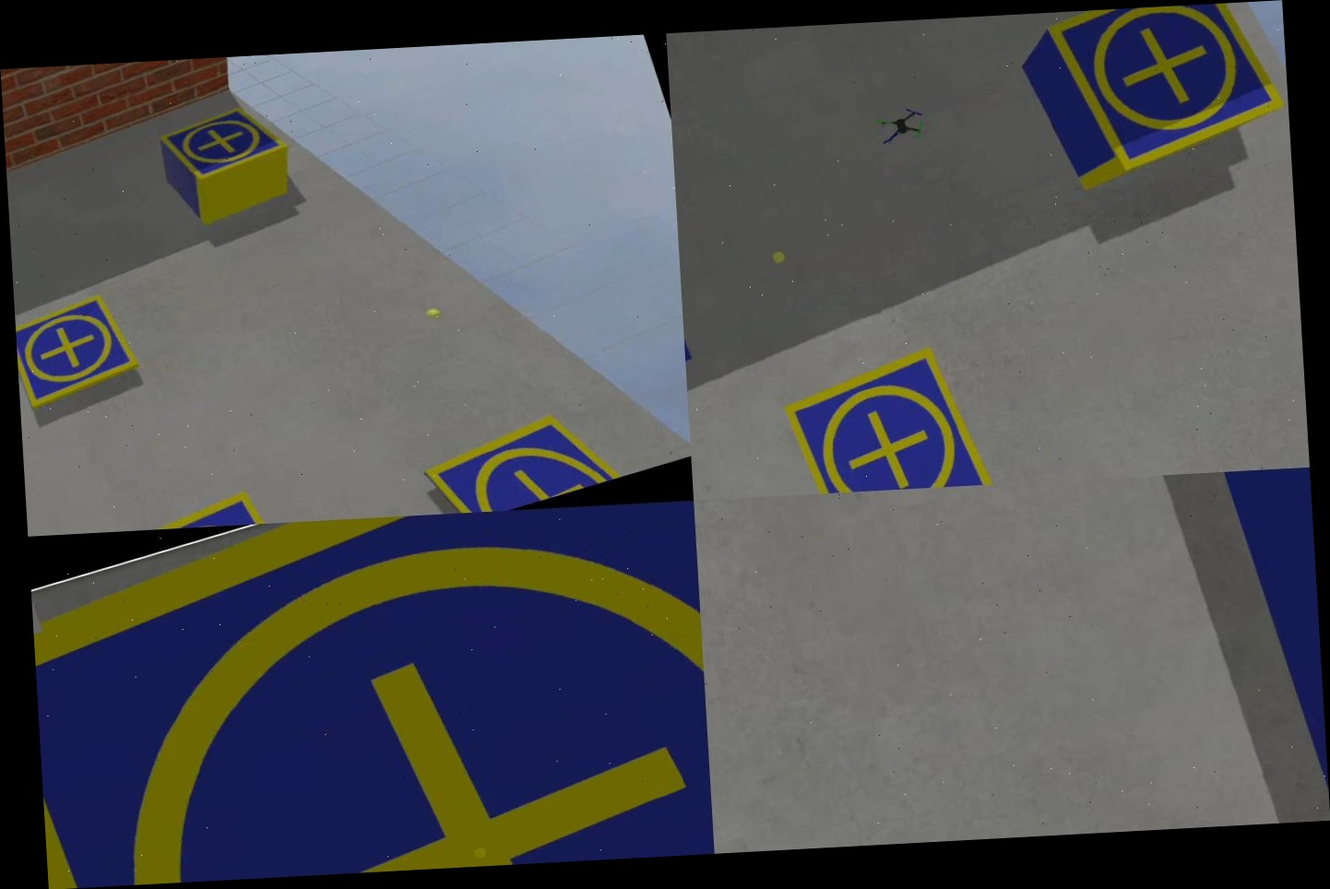small_base: (28, 501, 715, 889), (1042, 0, 1291, 186), (776, 335, 1002, 495), (415, 397, 623, 516), (14, 285, 147, 412), (160, 99, 297, 190), (106, 482, 292, 532)
